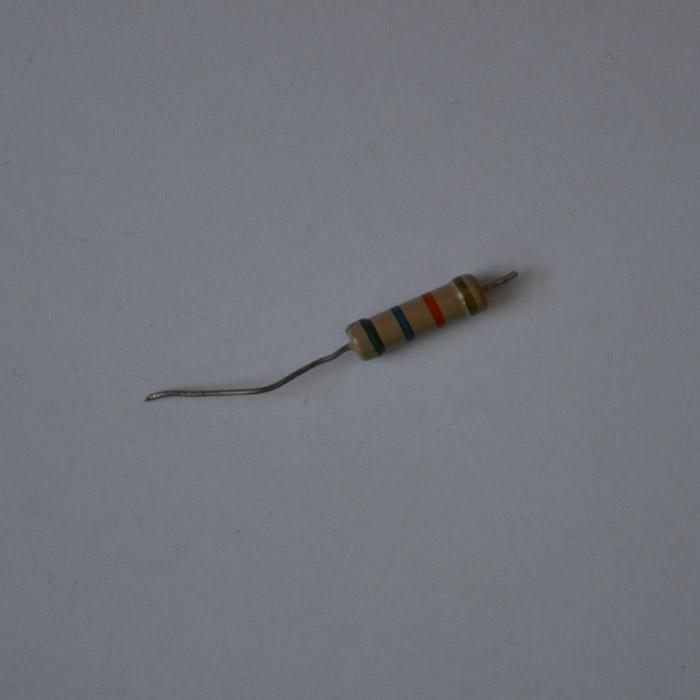resistor: (342, 269, 488, 363)
